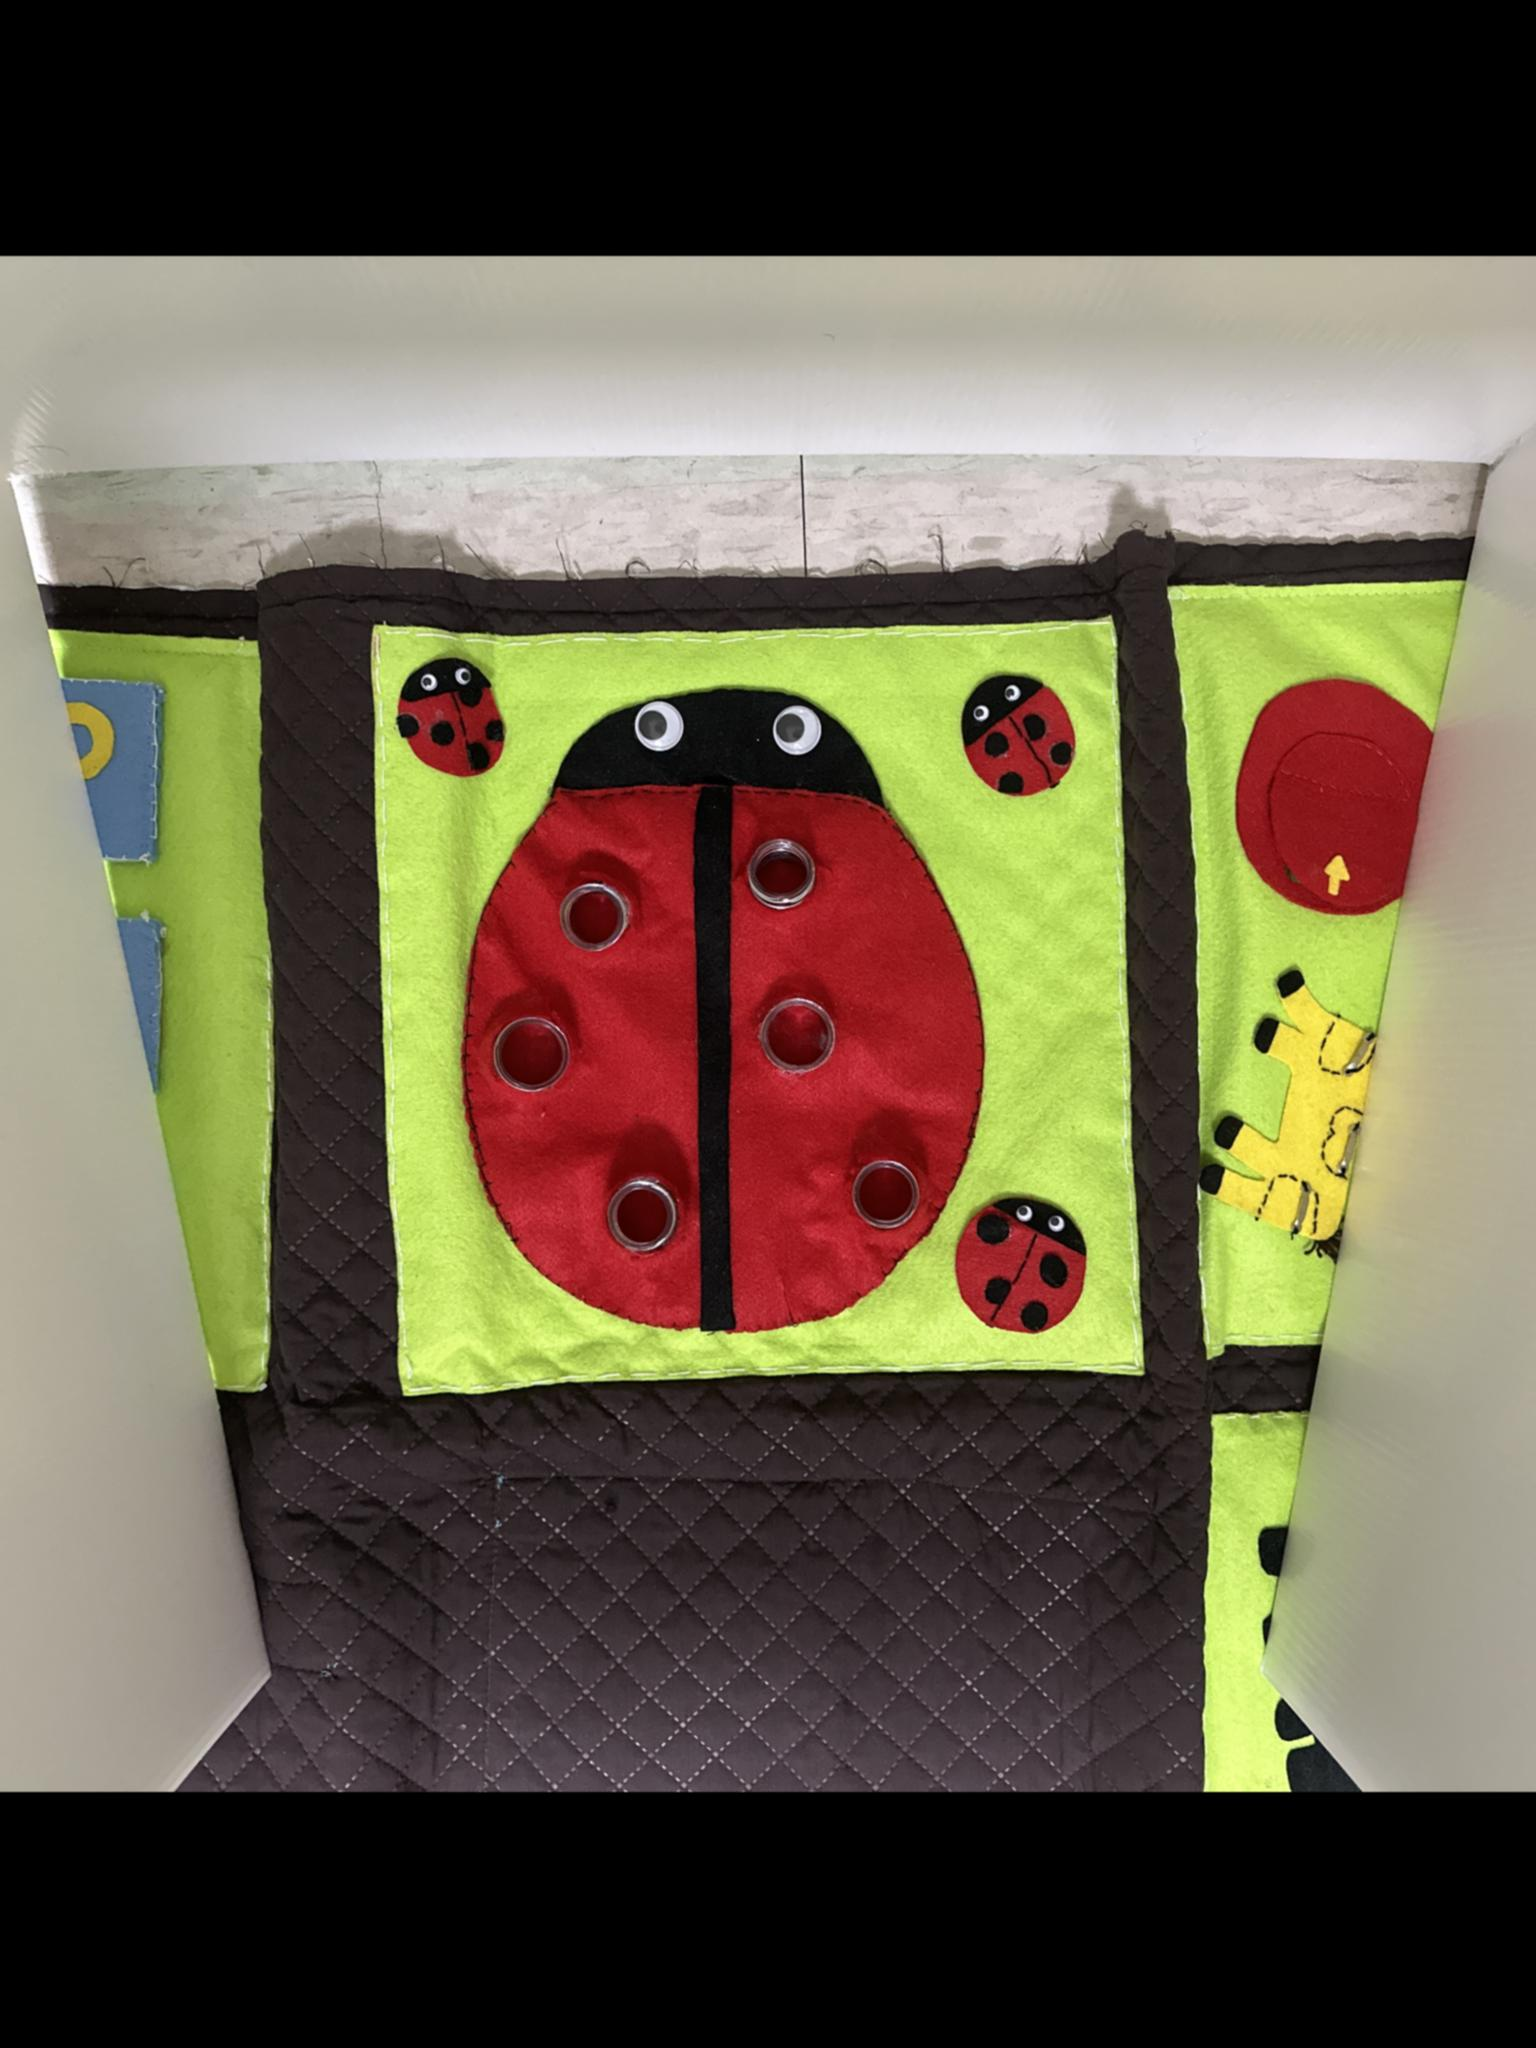hole: (747, 977, 850, 1089), (739, 830, 831, 934), (600, 1180, 699, 1271), (490, 1008, 581, 1100), (552, 880, 628, 966), (852, 1166, 937, 1238)
ladybug_case: (466, 689, 978, 1332)
